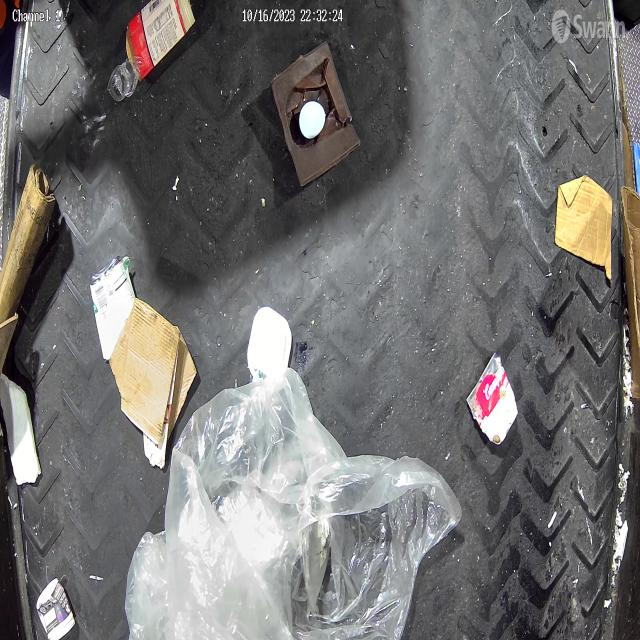can: (90, 252, 136, 360), (467, 353, 519, 446)
